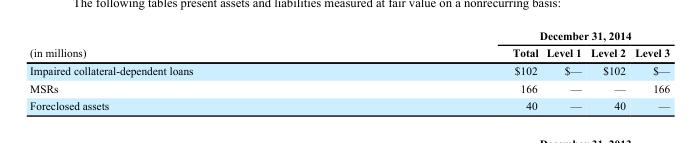table: (29, 28, 669, 111)
table column: (29, 28, 352, 111), (352, 28, 541, 111), (541, 28, 585, 111), (585, 28, 629, 111), (629, 28, 669, 111)
table column header: (29, 28, 669, 61)
table row: (29, 43, 669, 61), (29, 61, 669, 79), (29, 79, 669, 96), (29, 28, 669, 43), (29, 96, 669, 111)
table spanning cell: (29, 28, 352, 61), (352, 28, 669, 43)
